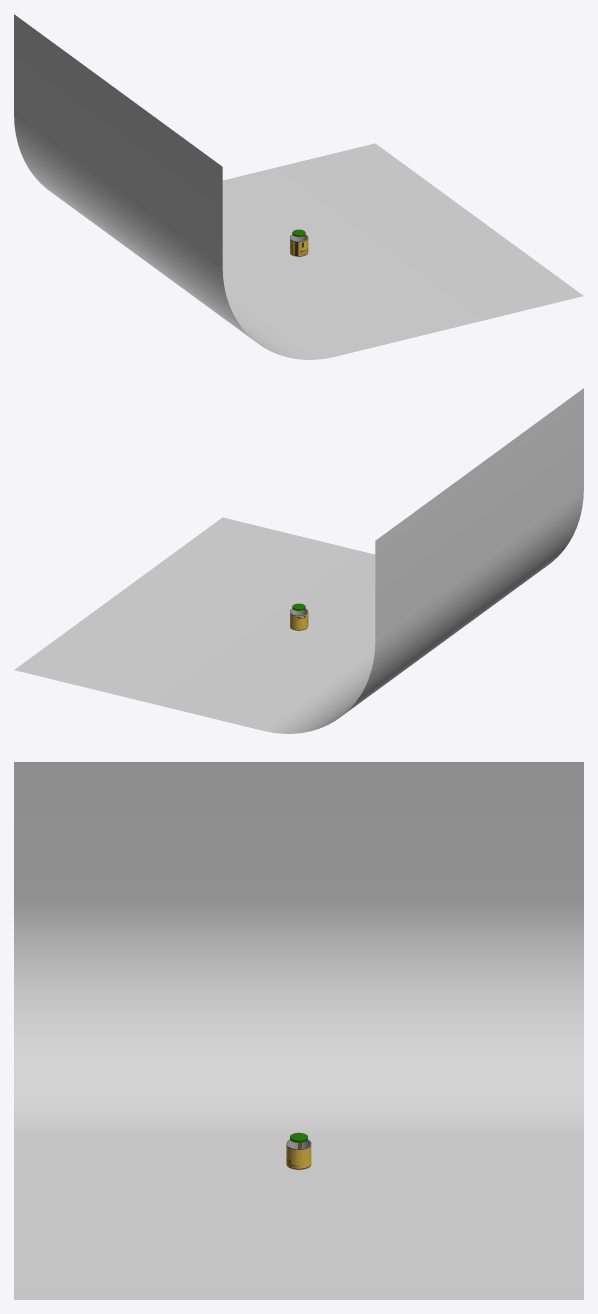
3 renders of one model, top to bottom at view 1: azimuth 30°, elevation 25°; view 2: azimuth 150°, elevation 25°; view 3: azimuth 270°, elevation 25°, orthographic. The views are drawn at different scales.
Parts seen in each view (by area): view 1: Plane; view 2: Plane; view 3: Plane.
Part boxes in pixels (x1,y1,x2,y2): Plane: (14, 14, 583, 359); Plane: (14, 388, 583, 733); Plane: (14, 762, 583, 1299).
Size of the model in its own units: 118 by 67.83 by 118.
Materials: 5 (1 with a texture image).
